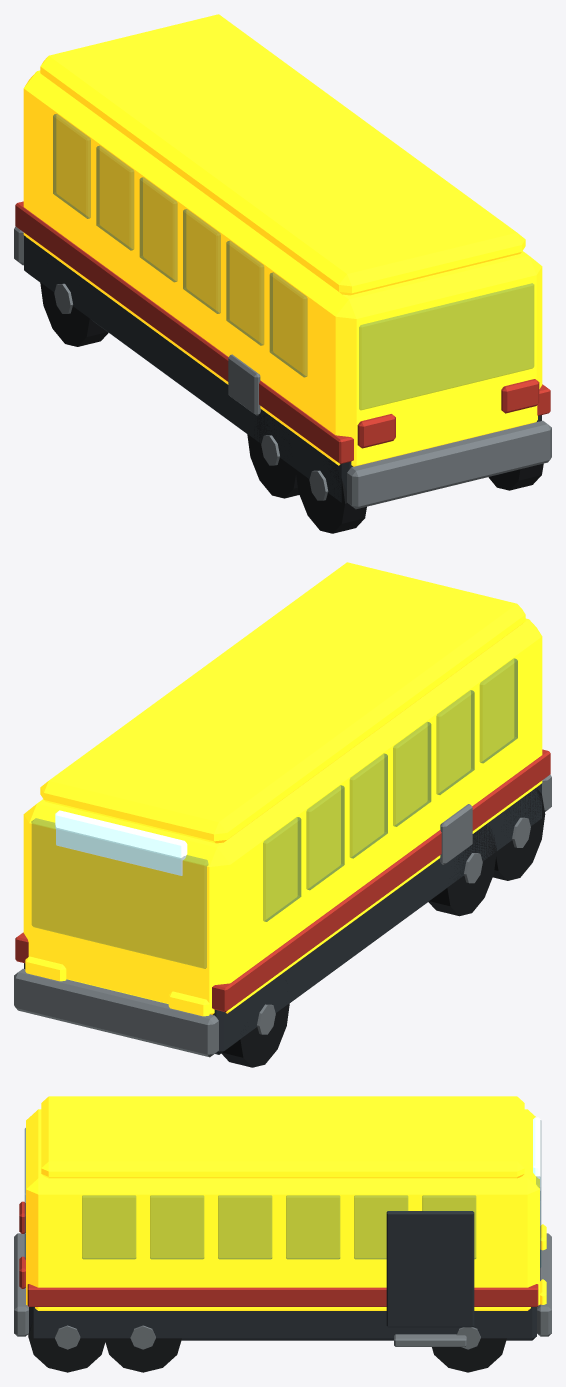
Rendered from bus.glb.
3 renders of one model, top to bottom at view 1: azimuth 30°, elevation 25°; view 2: azimuth 150°, elevation 25°; view 3: azimuth 270°, elevation 25°, orthographic. The views are drawn at different scales.
Visible parts, largest first — view 1: CarBodyShell, CarBodyRoofLine, RearWindow, CarBodySkirt, RearBumper, Stripe, SideWindow.004, SideWindow.010, SideWindow, SideWindow.002, SideWindow.006, SideWindow.008 (+7 smaller); view 2: CarBodyShell, CarBodyRoofLine, Windshield, CarBodySkirt, FrontBumper, Stripe, Destination, SideWindow.002, SideWindow, SideWindow.006, SideWindow.008, SideWindow.010 (+7 smaller); view 3: CarBodyShell, CarBodyRoofLine, CarBodySkirt, DoorFrame, Stripe, SideWindow.005, SideWindow.007, SideWindow.009, SideWindow.011, SideWindow.003, Wheel.005, Wheel.004 (+9 smaller).
Boxes of the visible parts, box(x1,y1,x2,y2) form: CarBodyShell: box(23, 70, 542, 466); CarBodyRoofLine: box(40, 14, 525, 295); RearWindow: box(359, 283, 533, 409); CarBodySkirt: box(24, 235, 541, 502); RearBumper: box(347, 420, 551, 509); Stripe: box(15, 201, 550, 463); SideWindow.004: box(139, 177, 177, 282); SideWindow.010: box(269, 272, 307, 377); SideWindow: box(53, 114, 90, 218); SideWindow.002: box(96, 145, 133, 250); SideWindow.006: box(183, 209, 220, 313); SideWindow.008: box(226, 241, 263, 345); CarBodyShell: box(23, 618, 542, 1014); CarBodyRoofLine: box(40, 562, 525, 843); Windshield: box(31, 818, 208, 968); CarBodySkirt: box(24, 783, 541, 1054); FrontBumper: box(14, 968, 218, 1057); Stripe: box(15, 749, 550, 1012); Destination: box(55, 810, 187, 875); SideWindow.002: box(306, 785, 344, 890); SideWindow: box(263, 817, 301, 921); SideWindow.006: box(393, 722, 431, 826); SideWindow.008: box(436, 690, 474, 794); SideWindow.010: box(480, 658, 517, 763); CarBodyShell: box(26, 1109, 539, 1310); CarBodyRoofLine: box(41, 1096, 524, 1178); CarBodySkirt: box(29, 1307, 536, 1340); DoorFrame: box(386, 1211, 474, 1327); Stripe: box(27, 1284, 538, 1306); SideWindow.005: box(286, 1195, 340, 1259); SideWindow.007: box(218, 1195, 272, 1259); SideWindow.009: box(150, 1195, 204, 1259); SideWindow.011: box(82, 1195, 136, 1259); SideWindow.003: box(354, 1195, 407, 1259); Wheel.005: box(28, 1320, 105, 1372); Wheel.004: box(104, 1338, 181, 1372).
Size of the model in its own units: 2.67 by 3 by 7.12.
